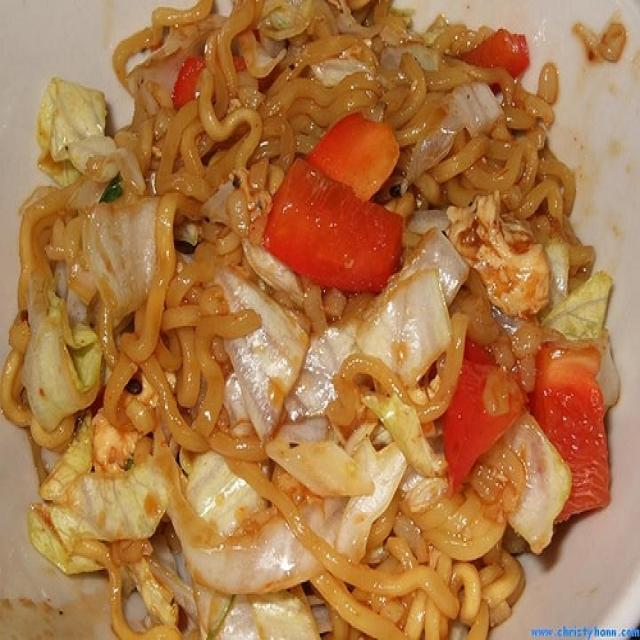面条主食: (19, 15, 617, 618)
